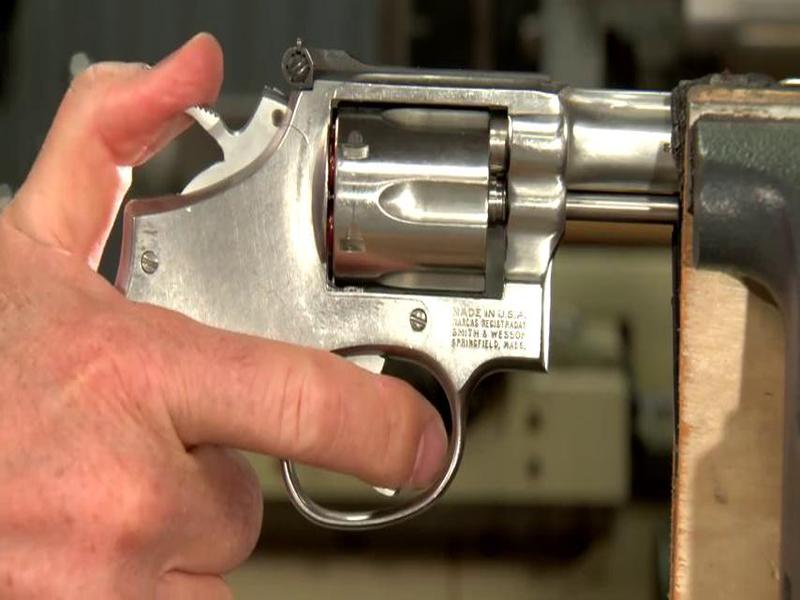Revolver: (68, 26, 798, 544)
